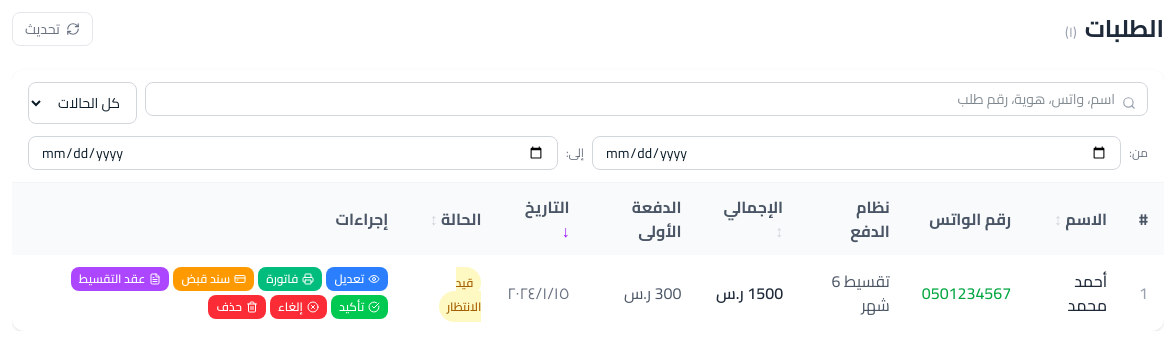
it: OrdersPage — Search وFilters › زر مسح الفلاتر يظهر عند وجود فلتر
Expected: the text "أحمد محمد" is shown, [1027, 255, 1123, 331]
Expected: the text "مسح الفلاتر" is not shown
Select "قيد الانتظار" in the dropdown at (82, 103), box [28, 82, 137, 124]
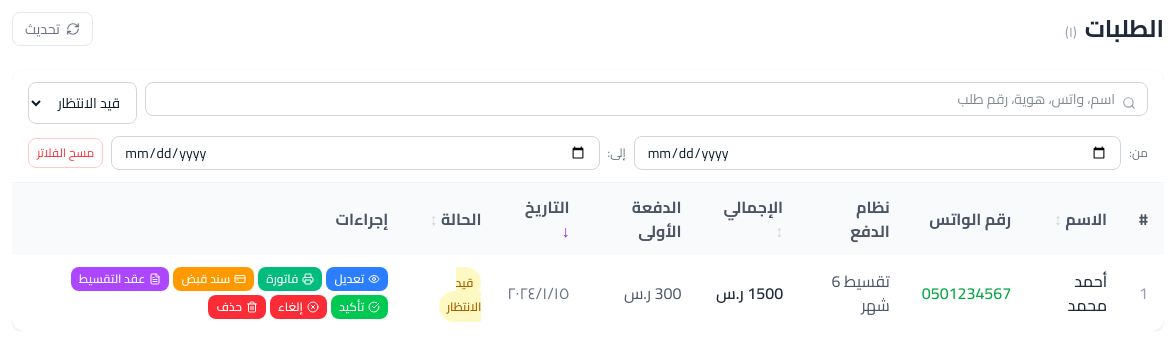
Result: the button "مسح الفلاتر" is shown at [28, 138, 103, 168]
